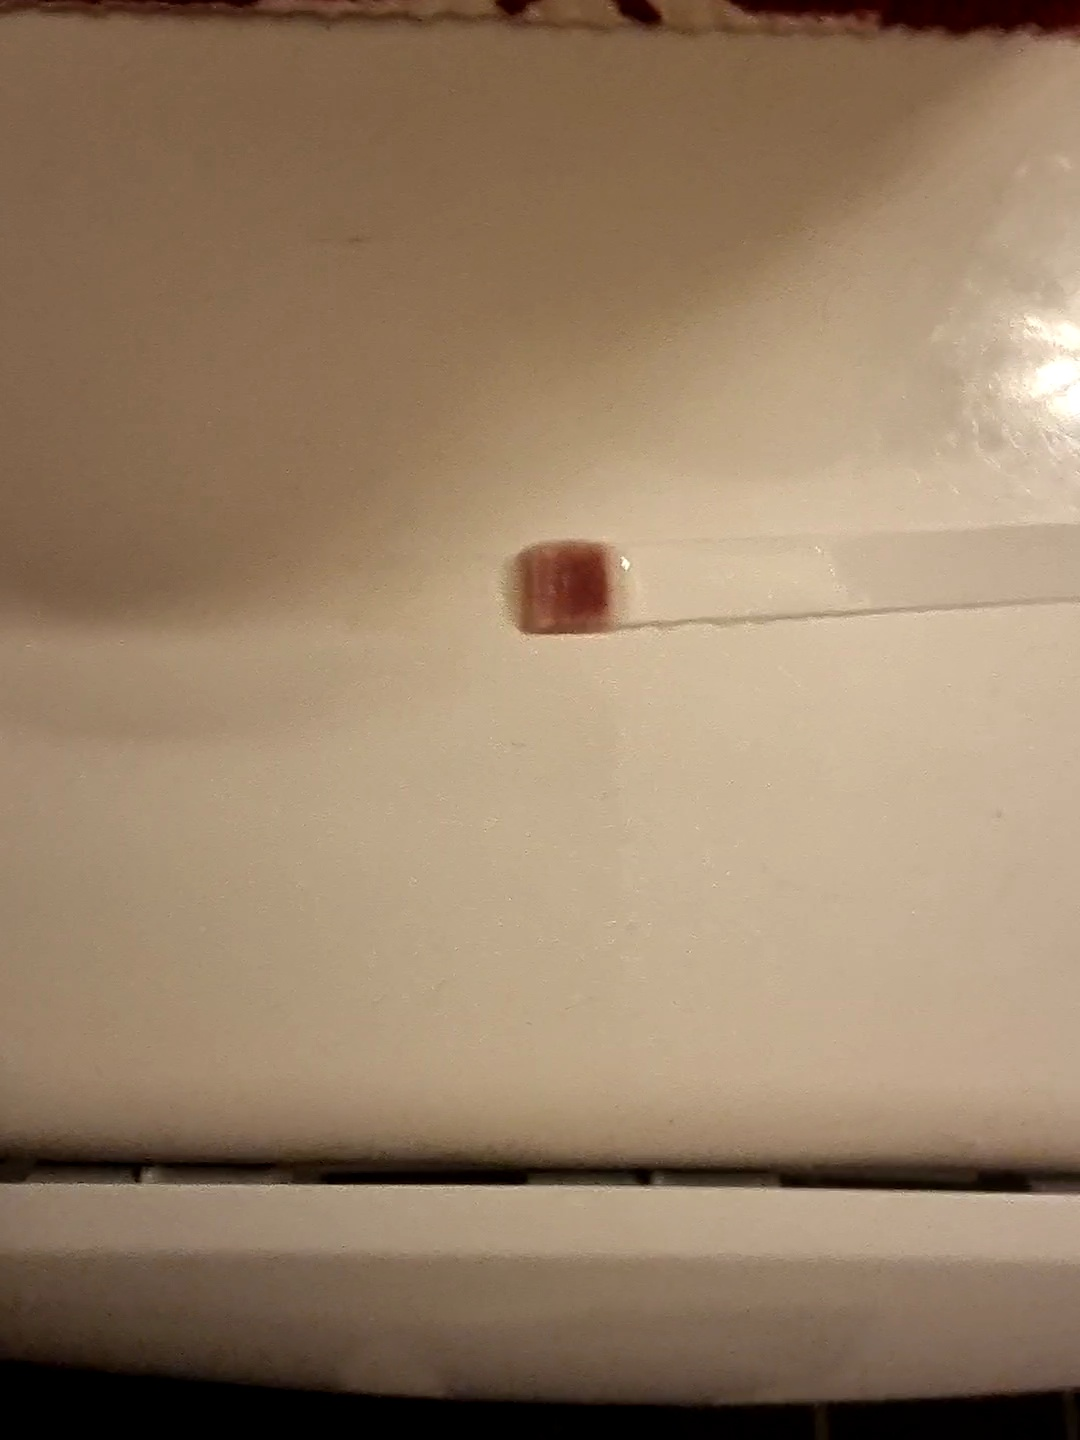keto-tip: (515, 537, 623, 639)
